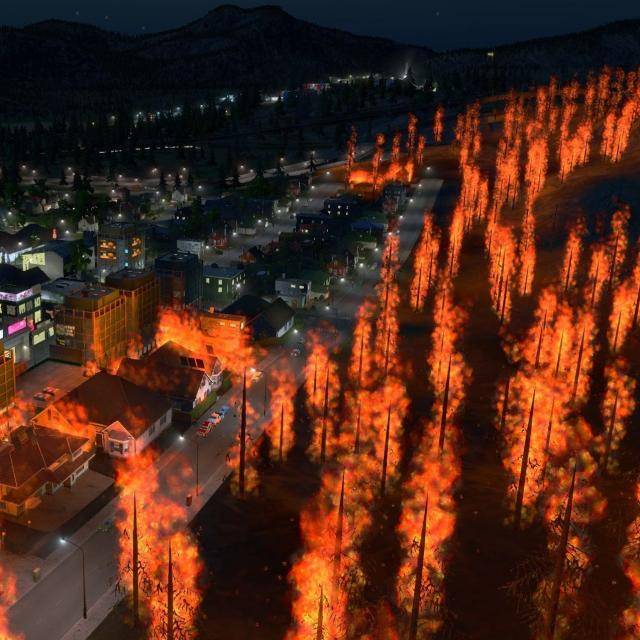Fire: (11, 75, 640, 640)
